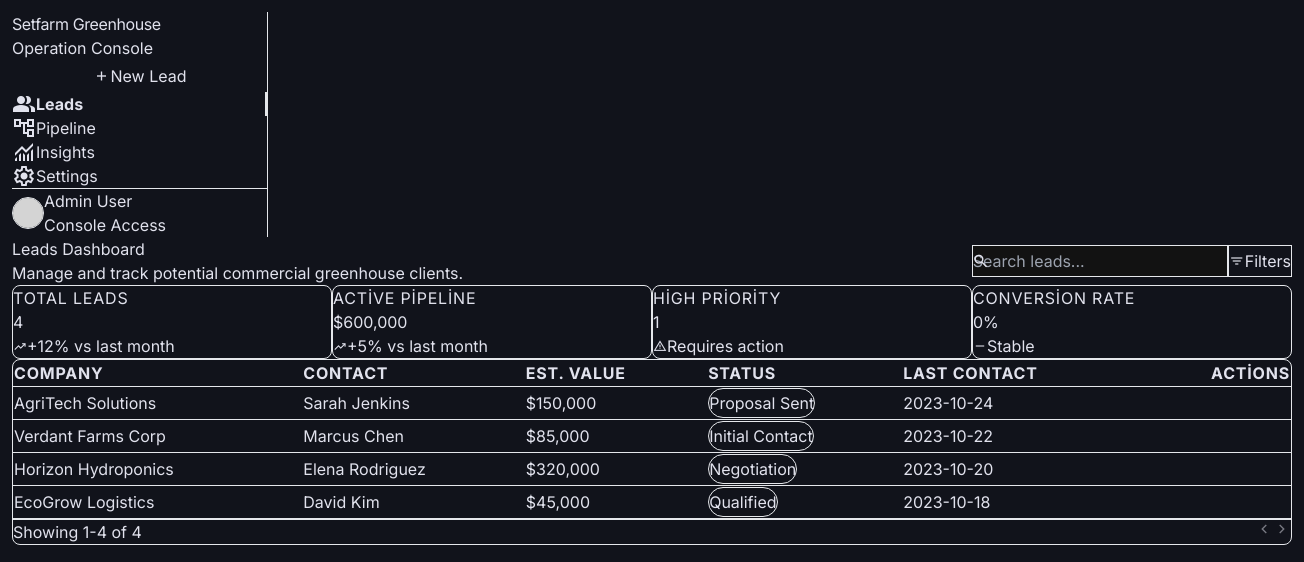
Test: LeadsDashboard › shows empty state when no leads match
Type "zzzzzzz" into the field with placeholder "Search leads..." at coordinates (1100, 261), box [972, 245, 1228, 277]
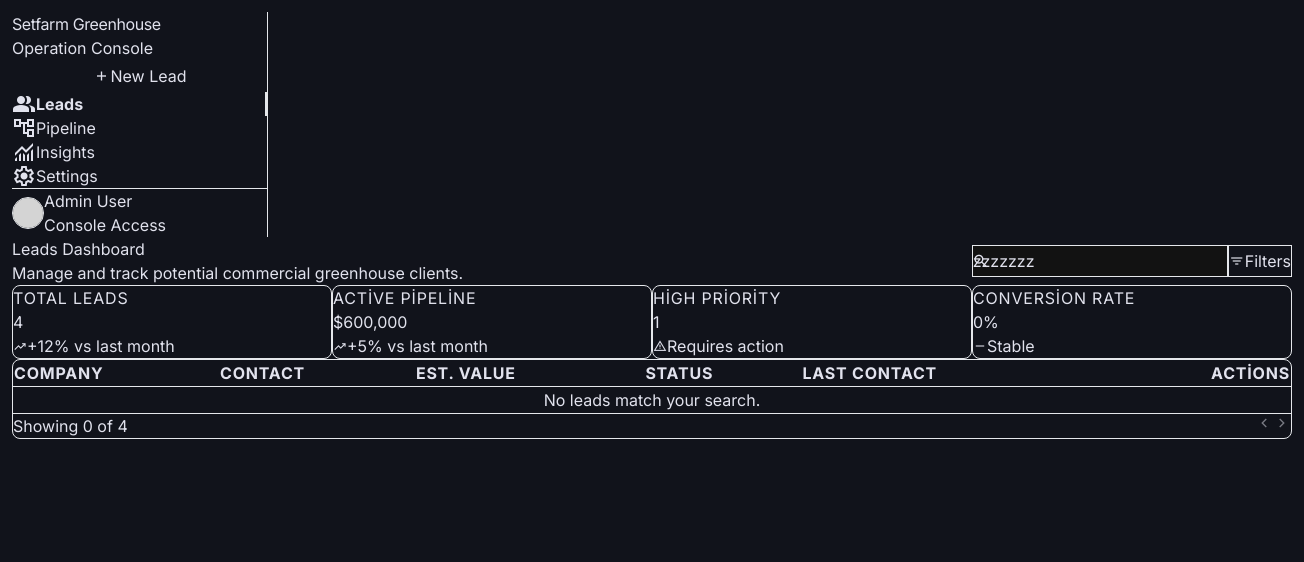
Check: the text "No leads match your search." is shown, box [13, 386, 1291, 413]
